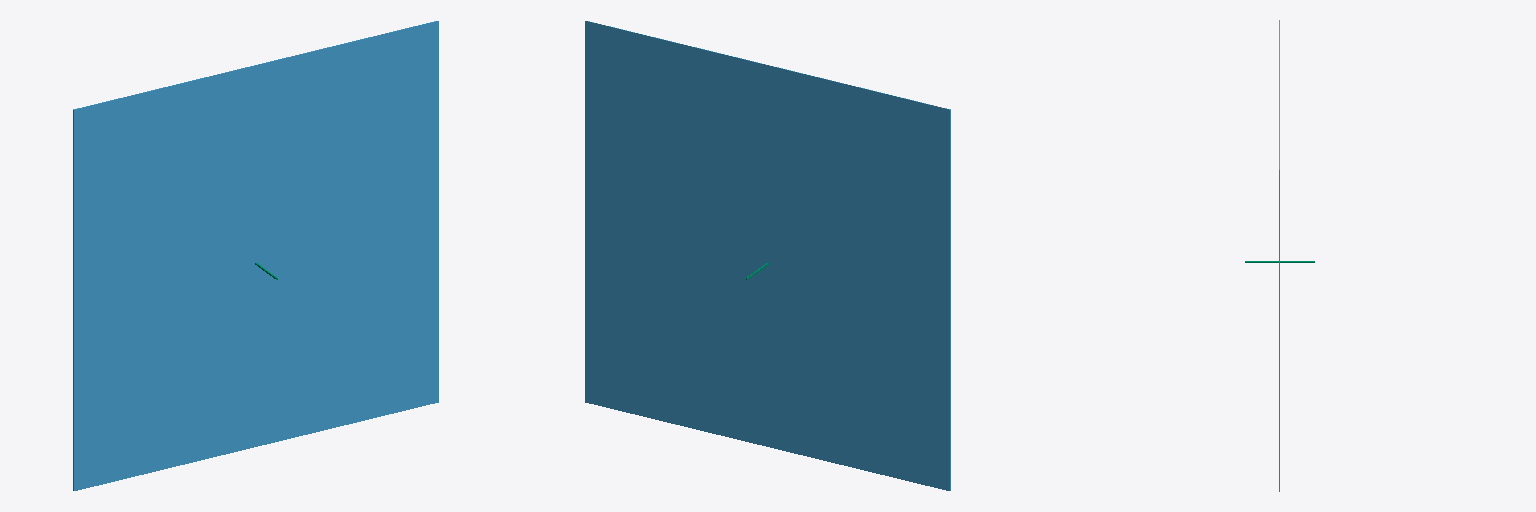
The robot description file, URDF, robot "ground_skeleton":
<?xml version="1.0"?>
<robot name="ground_skeleton">
    <link name="world" />
    <link name="ground_link">
        <inertial>
            <mass value="1.0" />
            <origin xyz="0 0 0" rpy="0 0 0" />
            <inertia ixx="1.0" ixy="0" ixz="0" iyy="1.0" iyz="0" izz="1.0" />
        </inertial>
        <visual>
            <origin xyz="0 -0.025 0" rpy="0 -0 0" />
            <geometry>
                <box size="25 0.05 25" />
            </geometry>
        </visual>
        <collision>
            <origin xyz="0 -0.025 0" rpy="0 -0 0" />
            <geometry>
                <box size="25 0.05 25" />
            </geometry>
        </collision>
    </link>
    <link name="flag_link">
        <inertial>
            <mass value="1.0" />
            <origin xyz="0 0 0" rpy="0 0 0" />
            <inertia ixx="1.0" ixy="0" ixz="0" iyy="1.0" iyz="0" izz="1.0" />
        </inertial>
        <visual>
            <origin xyz="0 0 -0.5" rpy="0 -0 0" />
            <geometry>
                <box size="0.1 5 0.1" />
            </geometry>
        </visual>
    </link>
    <joint name="ground_joint" type="fixed">
        <origin xyz="0 0 0" rpy="0 0 0" />
        <parent link="world" />
        <child link="ground_link" />
    </joint>
    <joint name="flag_joint1" type="fixed">
        <origin xyz="0 0 0" rpy="0 0 0" />
        <parent link="world" />
        <child link="flag_link" />
    </joint>
</robot>

--- Render facts (derived) ---
Views: 3 orthographic renders of the robot side by side, from view 1: azimuth 30°, elevation 25°; view 2: azimuth 150°, elevation 25°; view 3: azimuth 270°, elevation 25°.
Model ground_skeleton with 3 links and 2 joints (2 fixed), rooted at world, posed every joint at zero.
Visible links, largest first — view 1: ground_link; view 2: ground_link; view 3: none.
Boxes of the visible links, box(x1,y1,x2,y2) form: ground_link: box(73, 21, 438, 490); ground_link: box(585, 21, 950, 490).
Bounding box of the posed robot: 25 × 5 × 25 m (x, y, z).
Geometry: primitives only (box / cylinder / sphere), no mesh files.